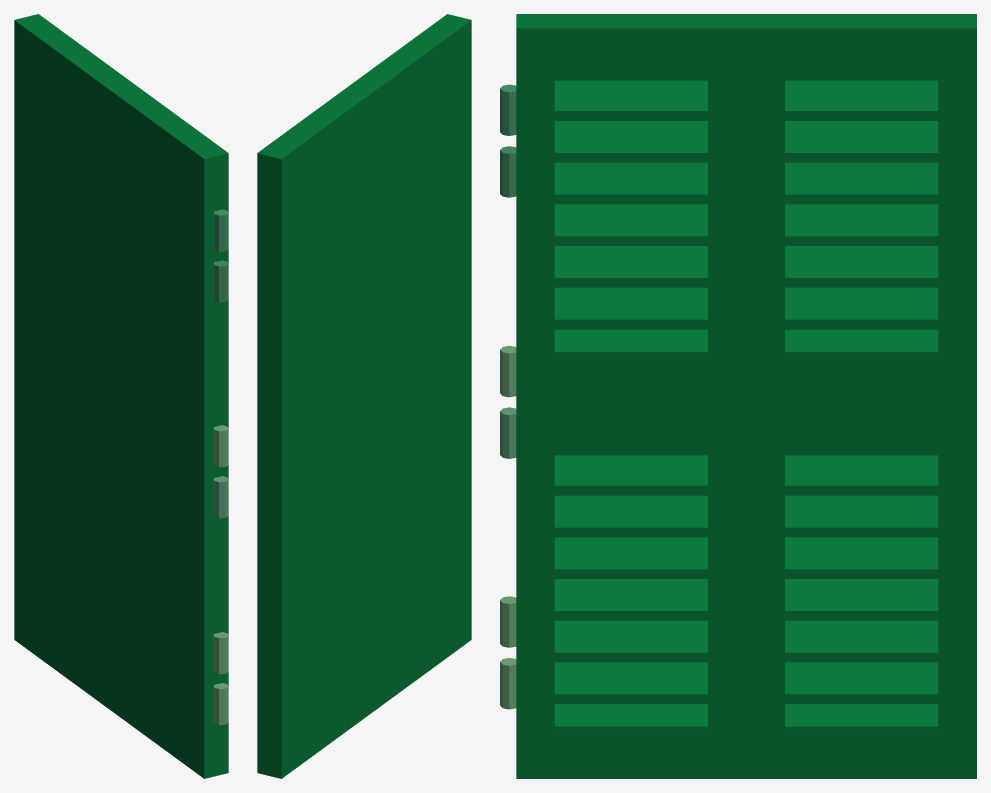
The model's file is persianafbx.fbx.
The picture shows the model from 3 angles, left to right: view 1: azimuth 30°, elevation 25°; view 2: azimuth 150°, elevation 25°; view 3: azimuth 270°, elevation 25°; orthographic projection. The views are drawn at different scales.
Visible parts, largest first — view 1: Persiana; view 2: Persiana; view 3: Persiana.
Part boxes in pixels (x1,y1,x2,y2): Persiana: [14, 14, 228, 778]; Persiana: [257, 14, 471, 778]; Persiana: [500, 14, 976, 778].
Size of the model in its own units: 14.97 by 360 by 207.
